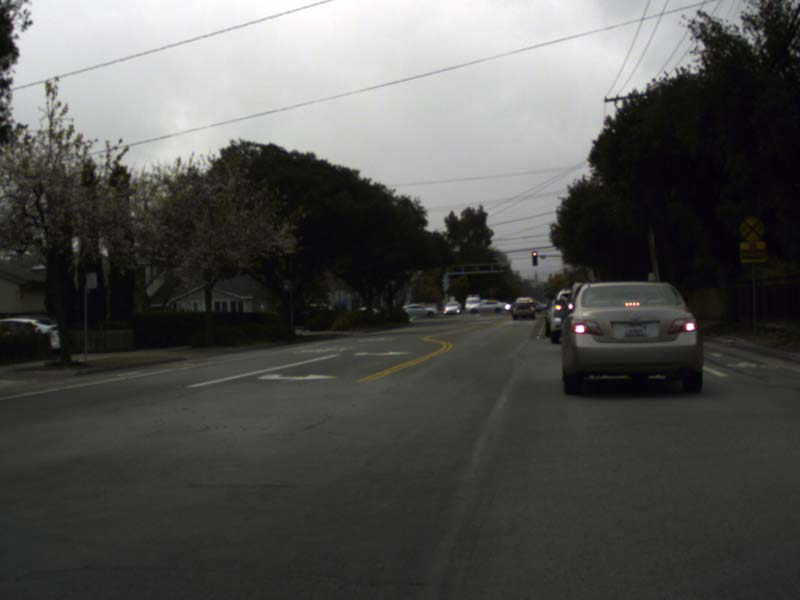Red: (531, 251, 537, 265)
